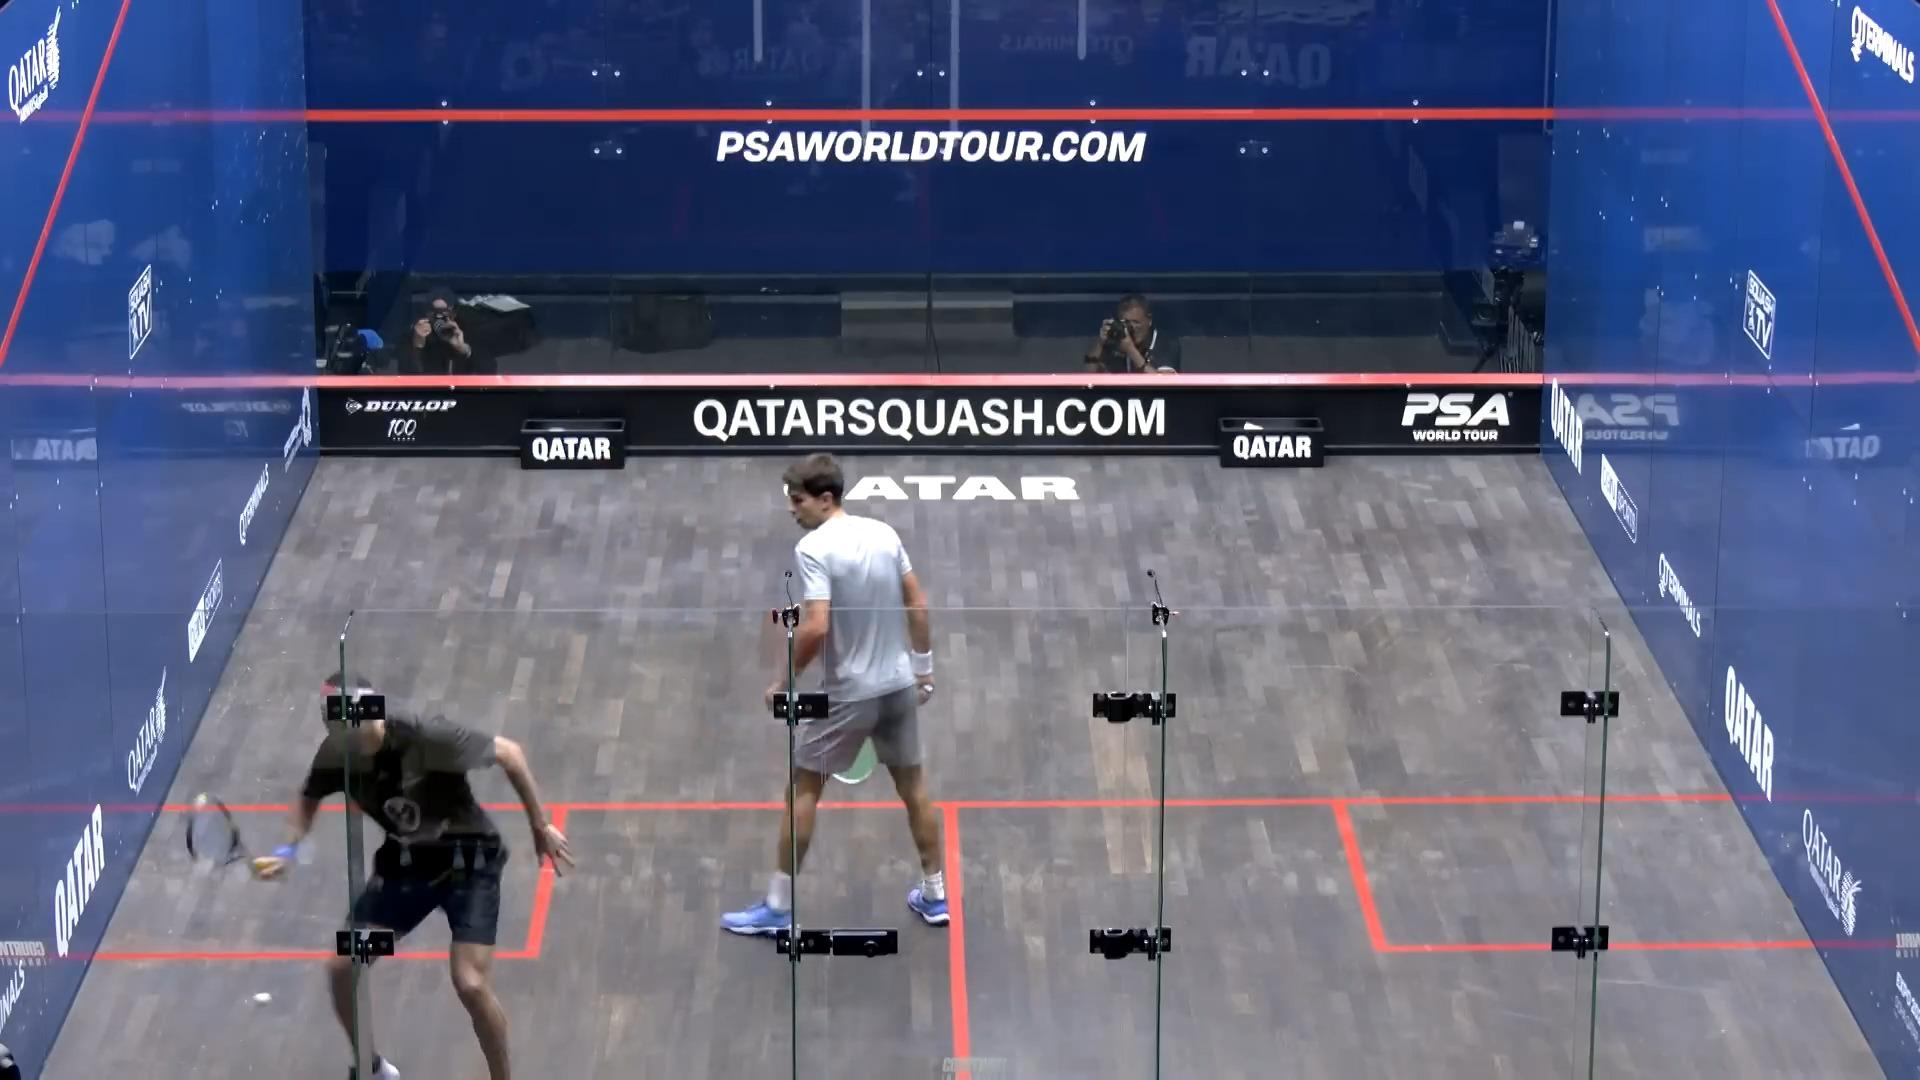Racket: (181, 785, 261, 885)
